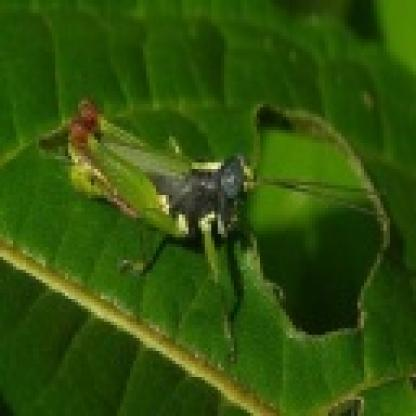grasshopper: (60, 99, 284, 299)
